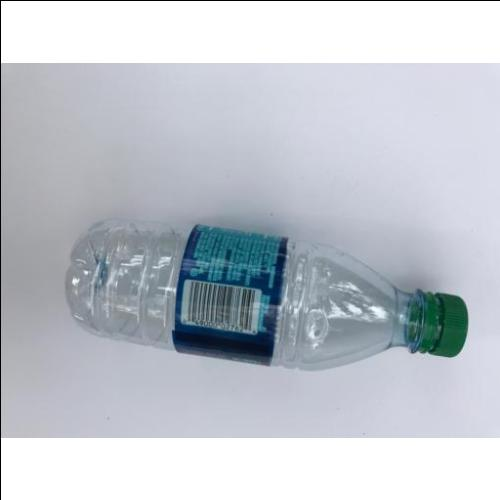plastic: (68, 220, 469, 371)
